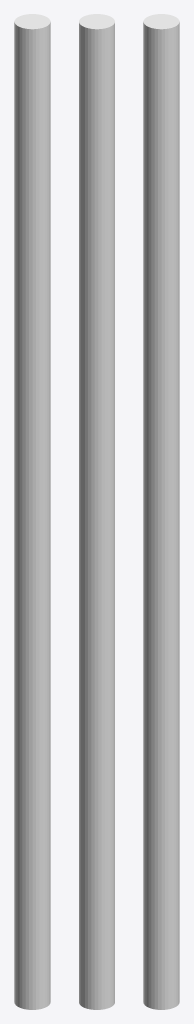
The model's file is light.obj.
The picture shows the model from 3 angles, left to right: view 1: azimuth 90°, elevation 25°; view 2: azimuth 150°, elevation 25°; view 3: azimuth 270°, elevation 25°; orthographic projection.
Parts seen in each view (by area): view 1: 円柱; view 2: 円柱; view 3: 円柱.
Part boxes in pixels (x1,y1,x2,y2): 円柱: [14, 14, 50, 1009]; 円柱: [79, 14, 114, 1009]; 円柱: [143, 14, 179, 1009].
Bounding box in the file's own units: 0.2 × 6 × 0.2.
1 material, 1 textured.
